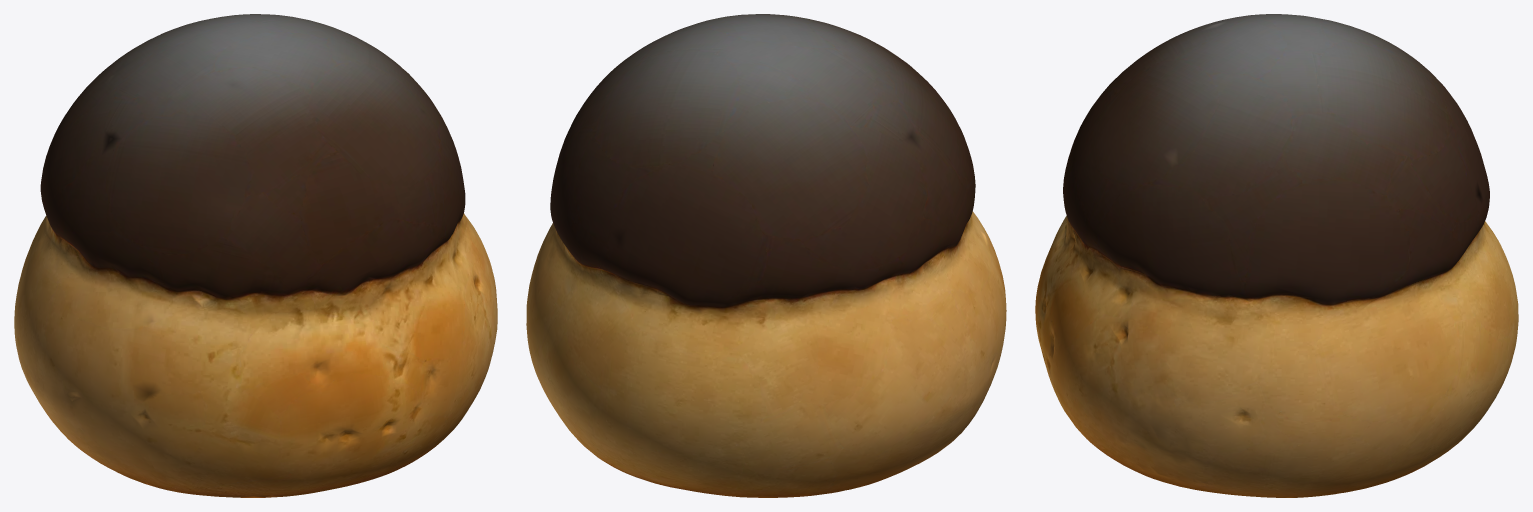
The model's file is bk-pastry-profiterole.glb.
3 renders of one model, left to right at view 1: azimuth 30°, elevation 25°; view 2: azimuth 150°, elevation 25°; view 3: azimuth 270°, elevation 25°, orthographic.
Parts seen in each view (by area): view 1: node_0; view 2: node_0; view 3: node_0.
Boxes of the visible parts, left/top/right/bottom form: node_0: left=14, top=14, right=497, bottom=497; node_0: left=526, top=14, right=1006, bottom=497; node_0: left=1035, top=14, right=1518, bottom=497.
Size of the model in its own units: 1.01 by 0.8783 by 1.01.
1 material, 1 textured.
